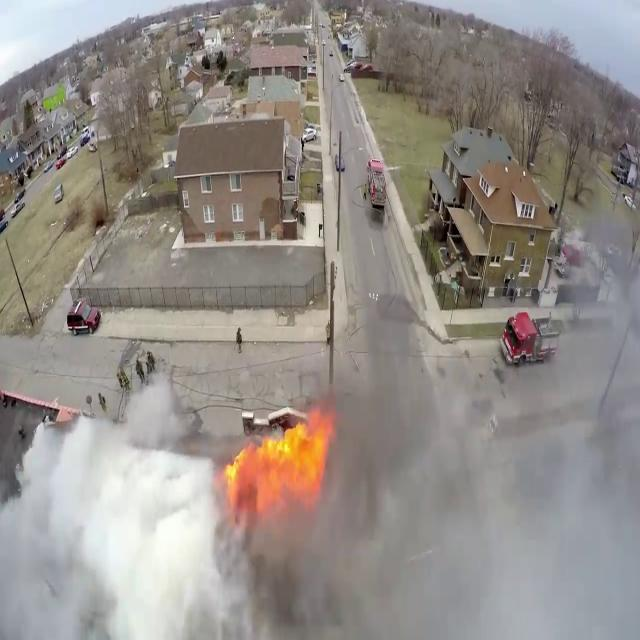Fire: (222, 394, 332, 512)
Smoke: (290, 287, 640, 640), (1, 362, 276, 640)
